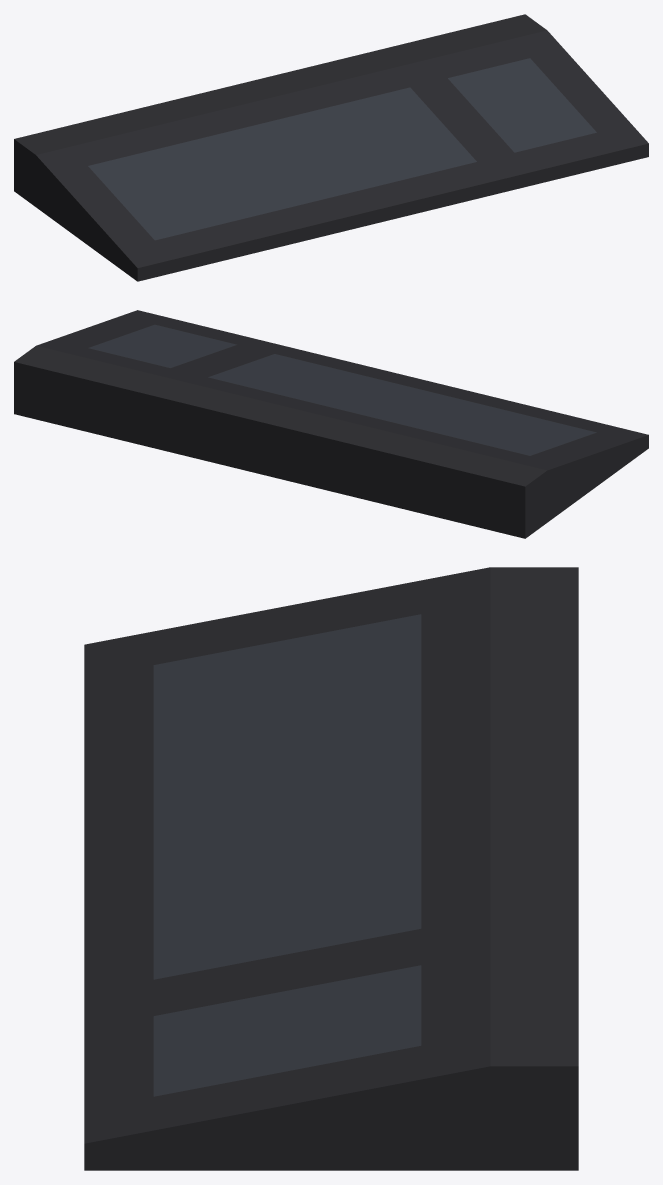
Rendered from cafe_keyboard.fbx.
3 views of the same model, one above another, from view 1: azimuth 30°, elevation 25°; view 2: azimuth 150°, elevation 25°; view 3: azimuth 270°, elevation 25° (orthographic). The views are drawn at different scales.
Visible parts, largest first — view 1: cafe_keyboard; view 2: cafe_keyboard; view 3: cafe_keyboard.
Boxes of the visible parts, x1,y1,x2,y2 form: cafe_keyboard: (14,14,648,281); cafe_keyboard: (14,310,648,538); cafe_keyboard: (84,567,578,1170).
Bounding box in the file's own units: 0.44 × 0.043 × 0.1843.
Materials: 1 (1 with a texture image).
